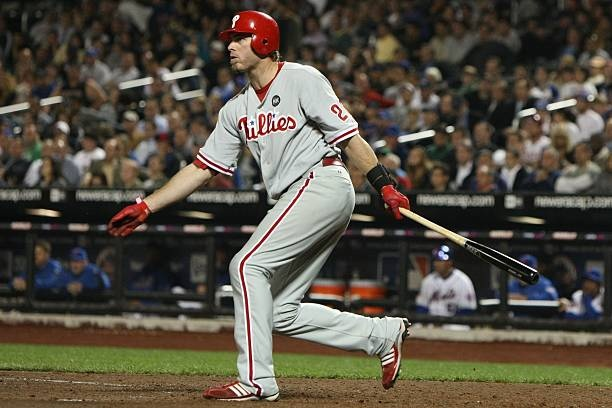bita: (390, 204, 537, 283)
